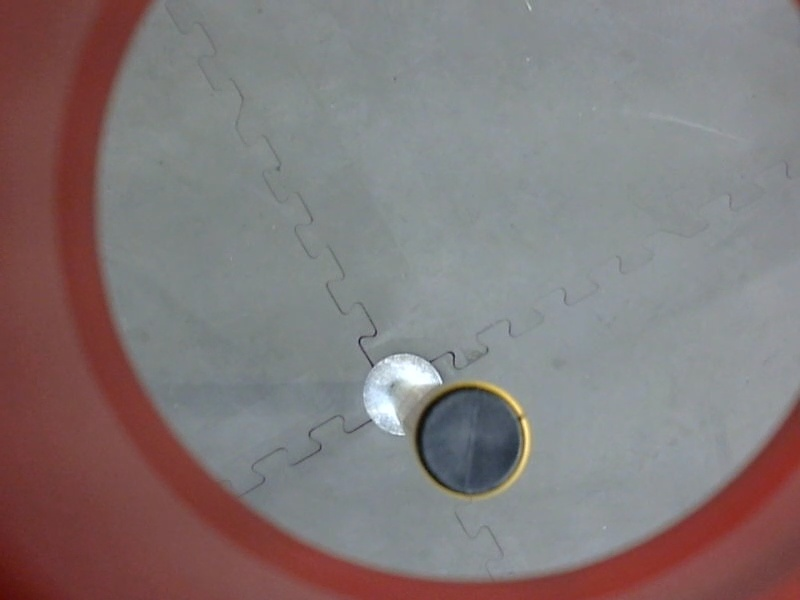tip: (399, 378, 541, 505)
